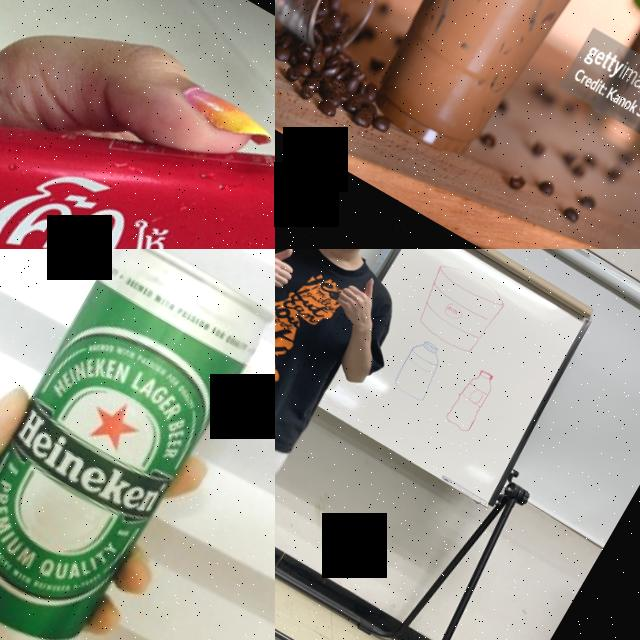can: (0, 249, 275, 640), (0, 0, 275, 249)
cup: (342, 0, 640, 182)
